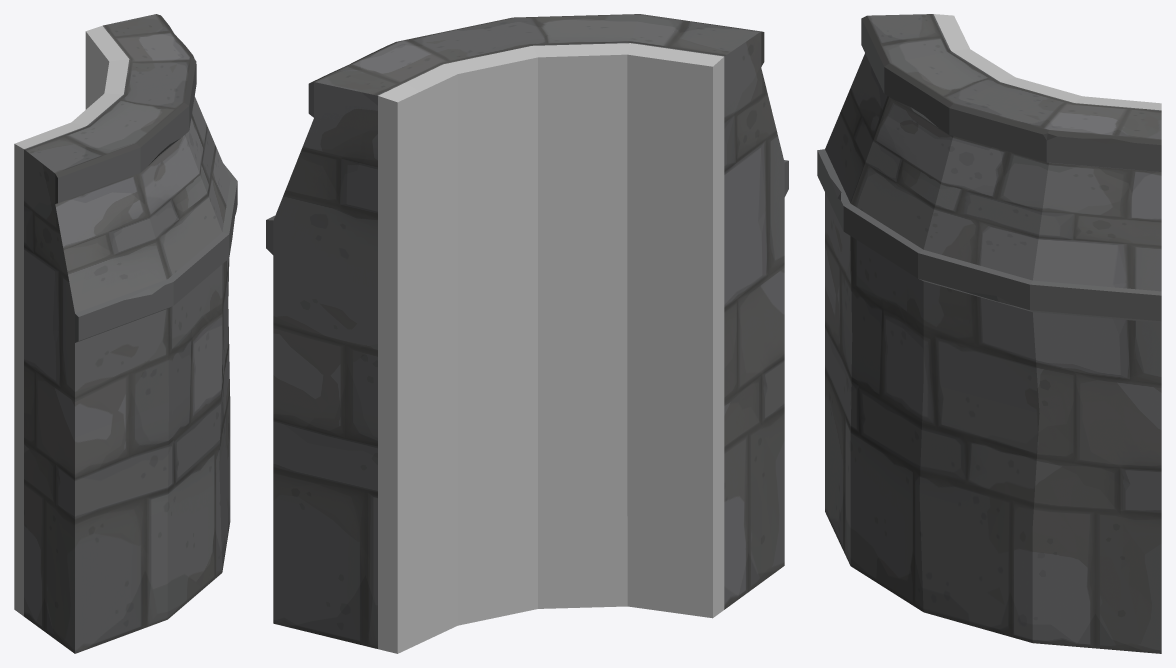
Rendered from SM_Bld_Wall_L_Curve_05.fbx.
3 renders of one model, left to right at view 1: azimuth 30°, elevation 25°; view 2: azimuth 150°, elevation 25°; view 3: azimuth 270°, elevation 25°, orthographic. The views are drawn at different scales.
Parts seen in each view (by area): view 1: SM_Bld_Wall_L_Curve_05; view 2: SM_Bld_Wall_L_Curve_05; view 3: SM_Bld_Wall_L_Curve_05.
Boxes of the visible parts, box(x1,y1,x2,y2) form: SM_Bld_Wall_L_Curve_05: box(14, 14, 237, 653); SM_Bld_Wall_L_Curve_05: box(266, 14, 788, 653); SM_Bld_Wall_L_Curve_05: box(817, 14, 1161, 653).
Size of the model in its own units: 377 by 602 by 377.
